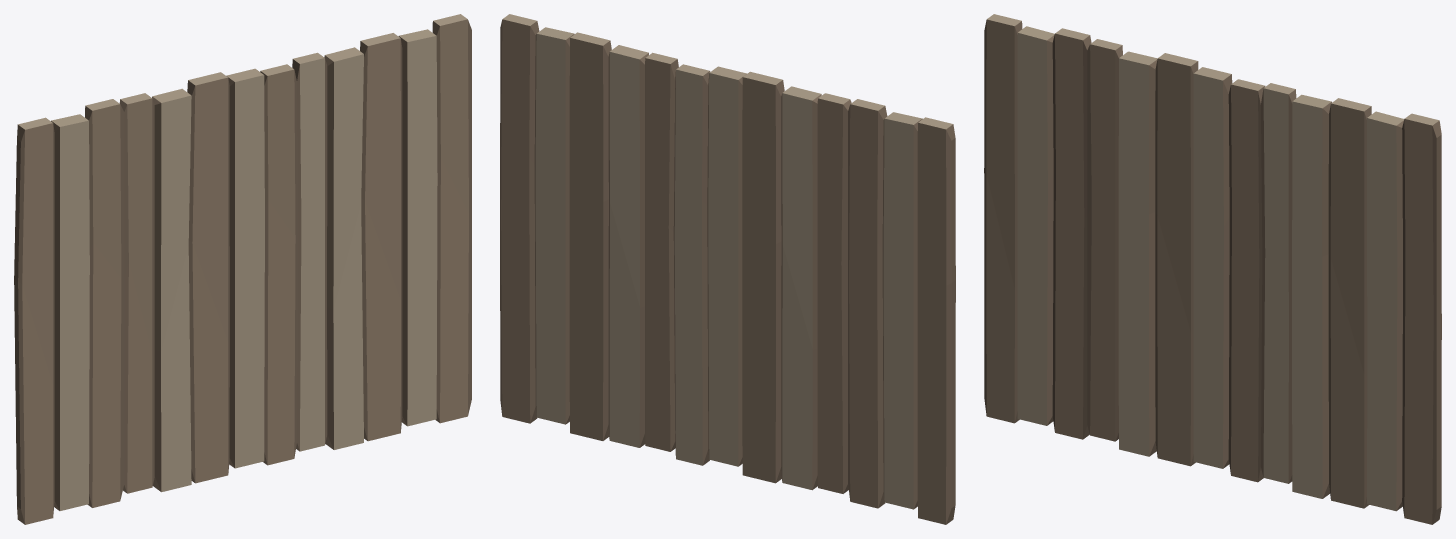
File: PrivacyFence.obj
3 renders of one model, left to right at view 1: azimuth 30°, elevation 25°; view 2: azimuth 150°, elevation 25°; view 3: azimuth 330°, elevation 25°, orthographic.
Parts seen in each view (by area): view 1: PrivacyFence; view 2: PrivacyFence; view 3: PrivacyFence.
Boxes of the visible parts, box(x1,y1,x2,y2) form: PrivacyFence: box(14, 14, 471, 524); PrivacyFence: box(500, 14, 955, 524); PrivacyFence: box(984, 14, 1441, 524).
Bounding box in the file's own units: 2.14 × 1.8 × 0.0897.
Materials: 1 (1 with a texture image).
